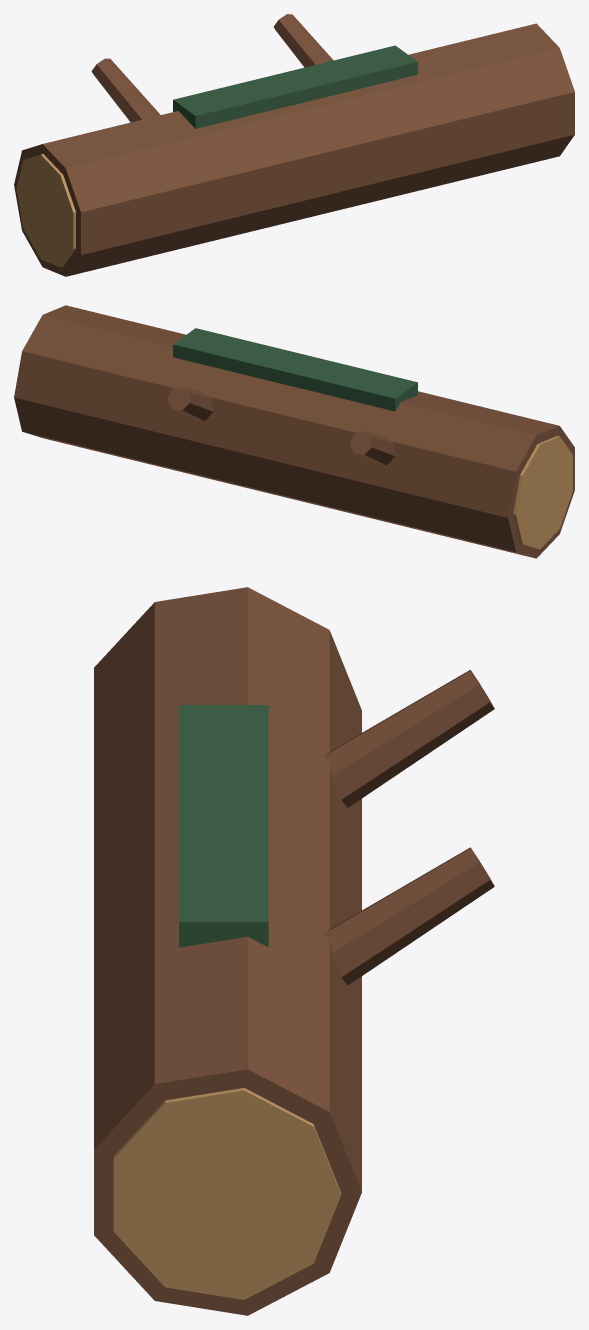
File: fallen_log_a.glb
3 views of the same model, one above another, from view 1: azimuth 30°, elevation 25°; view 2: azimuth 150°, elevation 25°; view 3: azimuth 270°, elevation 25° (orthographic). The views are drawn at different scales.
Visible parts, largest first — view 1: fallen_log_a; view 2: fallen_log_a; view 3: fallen_log_a.
Part boxes in pixels (x1,y1,x2,y2): fallen_log_a: (14, 14, 574, 276); fallen_log_a: (14, 305, 574, 558); fallen_log_a: (94, 587, 494, 1315).
Bounding box in the file's own units: 1.92 × 0.5115 × 0.6675.
